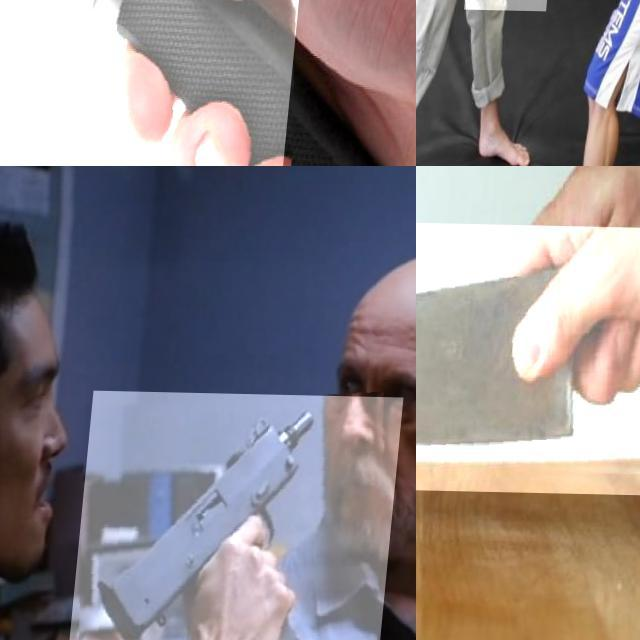-: (416, 217, 640, 495), (0, 0, 329, 166), (472, 0, 560, 39)
gun-knife-thesis - v11 Yolov5 augmented: (67, 389, 408, 640)
